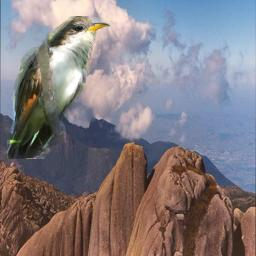Cuckoo: (7, 16, 110, 159)
